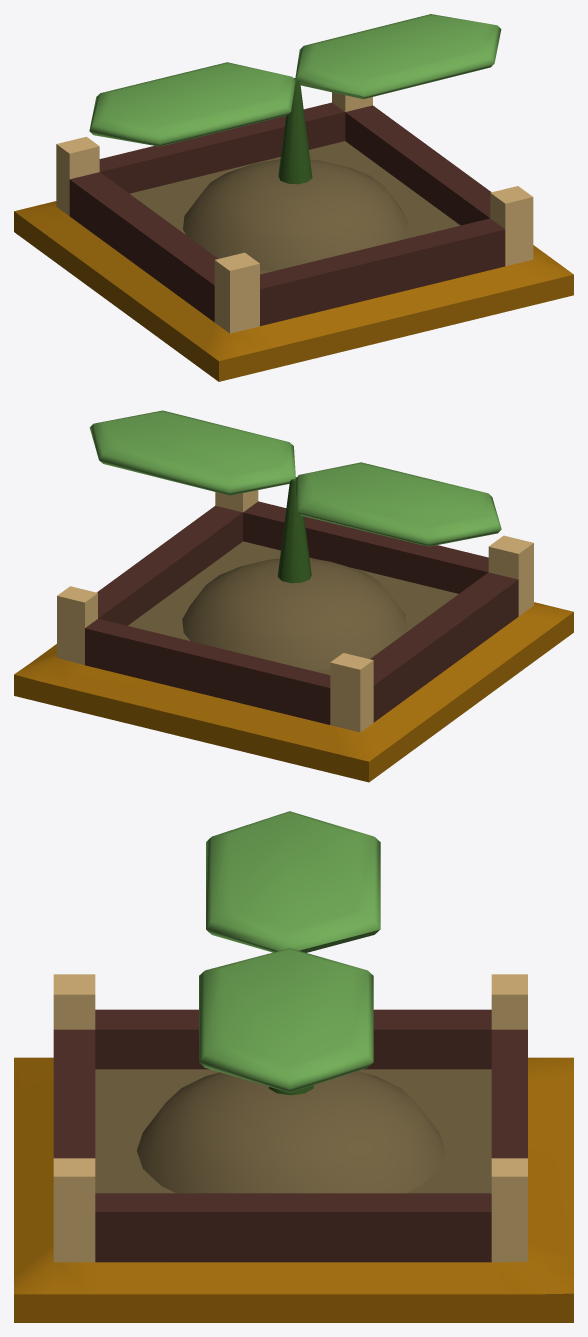
The model's file is Jumppad.fbx.
3 renders of one model, top to bottom at view 1: azimuth 30°, elevation 25°; view 2: azimuth 150°, elevation 25°; view 3: azimuth 270°, elevation 25°, orthographic. The views are drawn at different scales.
Visible parts, largest first — view 1: Box001, Leaf002, Leaf001; view 2: Box001, Leaf002, Leaf001; view 3: Box001, Leaf001, Leaf002.
Boxes of the visible parts, left/top/right/bottom form: Box001: left=14, top=78, right=573, bottom=381; Leaf002: left=295, top=14, right=501, bottom=99; Leaf001: left=89, top=62, right=295, bottom=146; Box001: left=14, top=477, right=573, bottom=782; Leaf002: left=89, top=410, right=295, bottom=495; Leaf001: left=295, top=462, right=501, bottom=546; Box001: left=14, top=974, right=573, bottom=1322; Leaf001: left=206, top=811, right=380, bottom=952; Leaf002: left=199, top=948, right=373, bottom=1092.
Size of the model in its own units: 23.33 by 10.52 by 20.09.
1 material, 1 textured.
